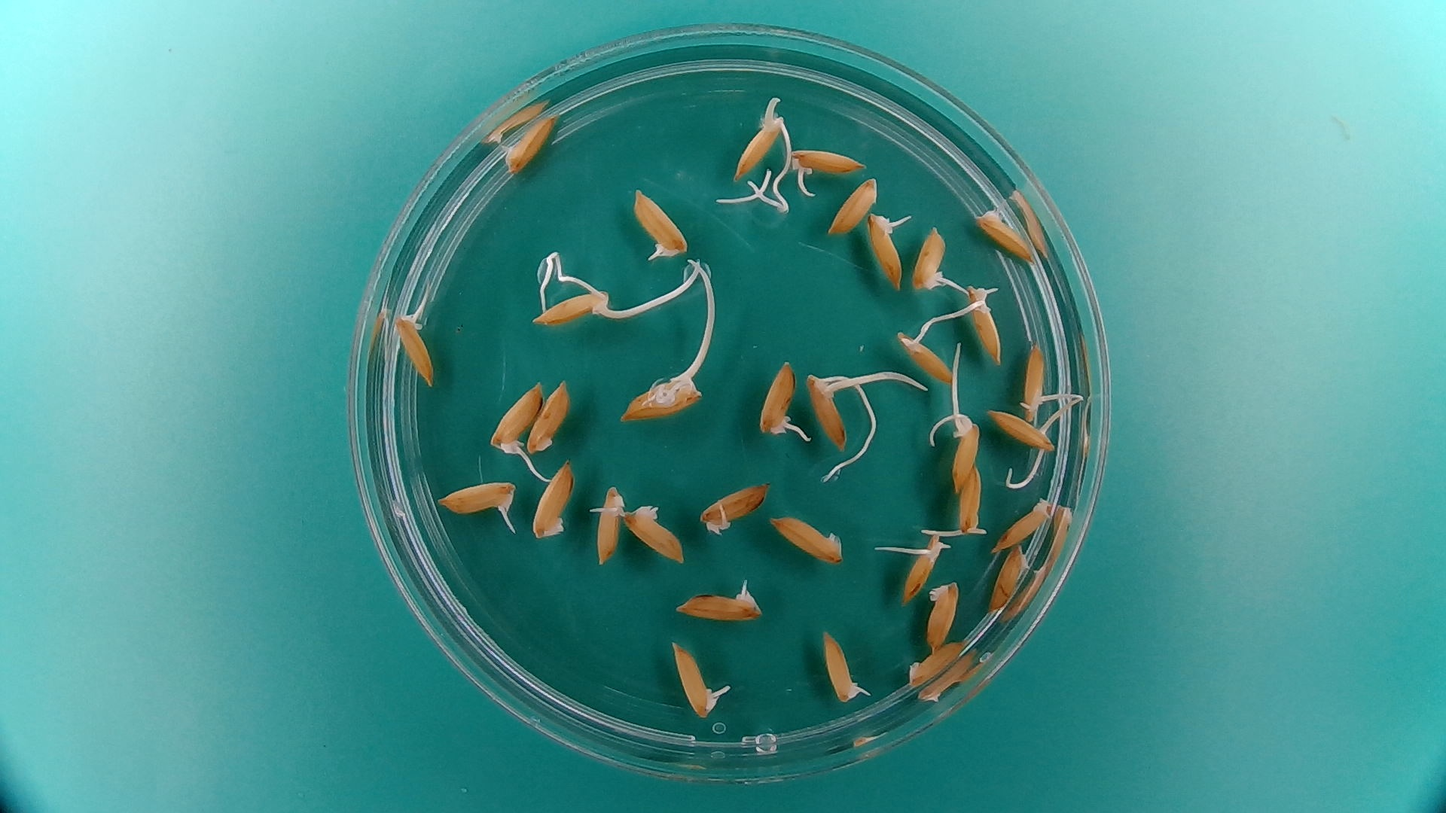no: (973, 188, 1053, 263), (766, 511, 845, 567), (622, 501, 688, 566), (528, 456, 577, 542), (527, 373, 573, 455), (991, 495, 1054, 552), (826, 175, 881, 236), (985, 546, 1030, 615), (904, 638, 966, 687), (925, 576, 962, 653)
yes: (617, 364, 706, 426), (669, 637, 729, 722), (630, 187, 691, 263), (487, 378, 543, 456), (698, 478, 774, 535), (527, 279, 614, 328), (957, 280, 1006, 367), (755, 355, 804, 440), (673, 578, 763, 624), (820, 626, 870, 705), (731, 106, 786, 177), (392, 301, 437, 387), (803, 368, 848, 454), (500, 111, 560, 175), (865, 208, 909, 291), (984, 406, 1058, 454), (901, 527, 944, 608), (436, 477, 518, 518), (791, 142, 868, 184), (893, 333, 956, 384), (944, 410, 981, 494), (1018, 338, 1057, 416), (910, 224, 953, 294), (591, 483, 626, 565), (956, 463, 987, 537)
